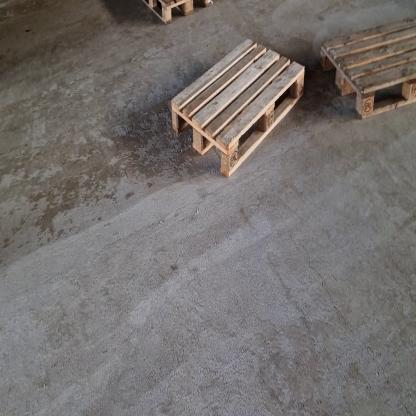BoxFace: (166, 32, 308, 187), (316, 9, 416, 130), (141, 0, 219, 32)
